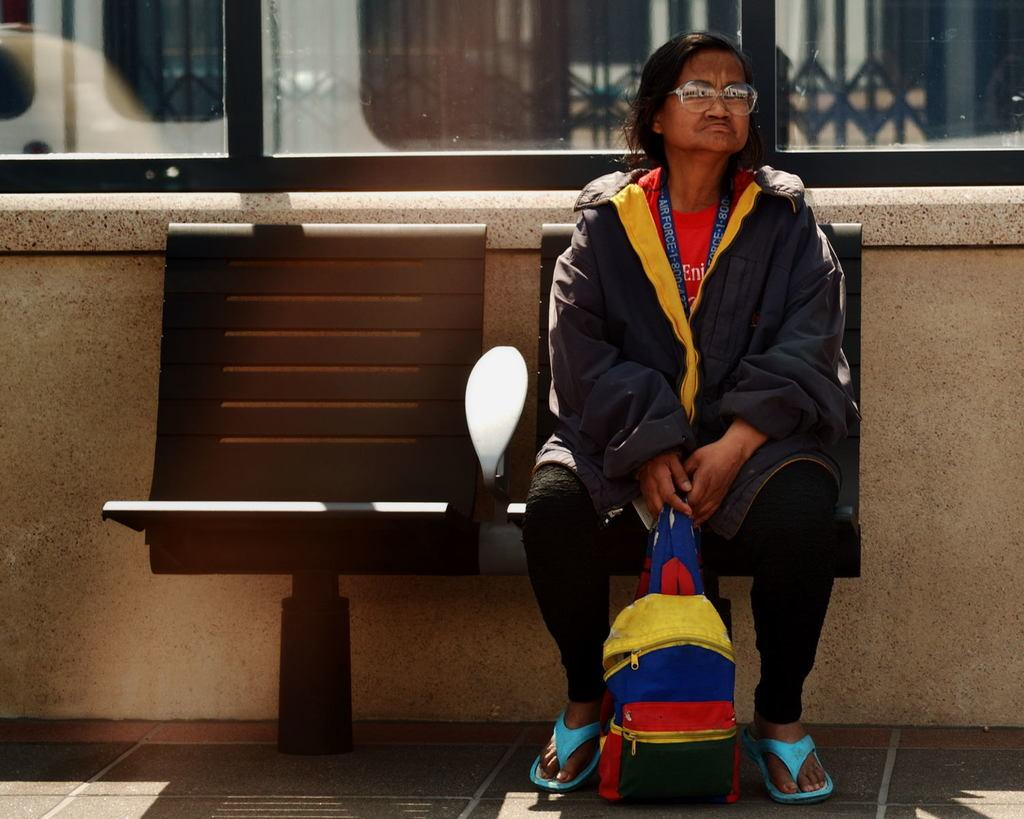Luggage-and-bags: (599, 485, 739, 809)
